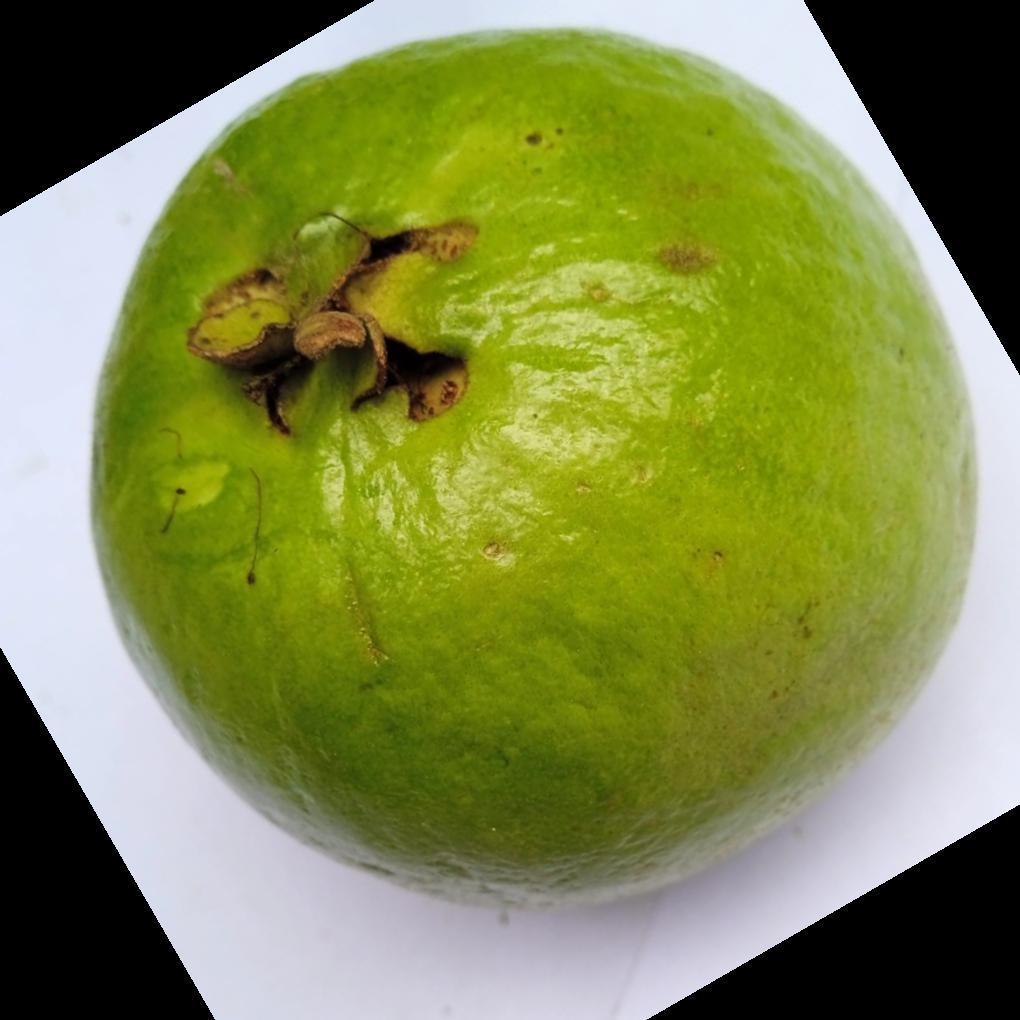FreshGuava: (86, 28, 980, 926)
